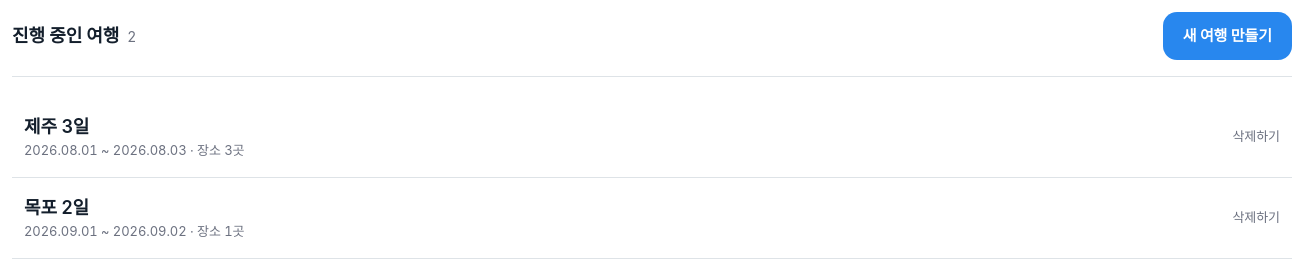
Test case: TripsPanel — 여행 지우기 (FR-017 soft delete) › 되돌리기를 누르면 목록으로 돌아온다 (T-06 — 되돌리기 항상 가능)
Click the button with aria-label "제주 3일 삭제하기" at (1256, 137), box [1220,117,1292,157]
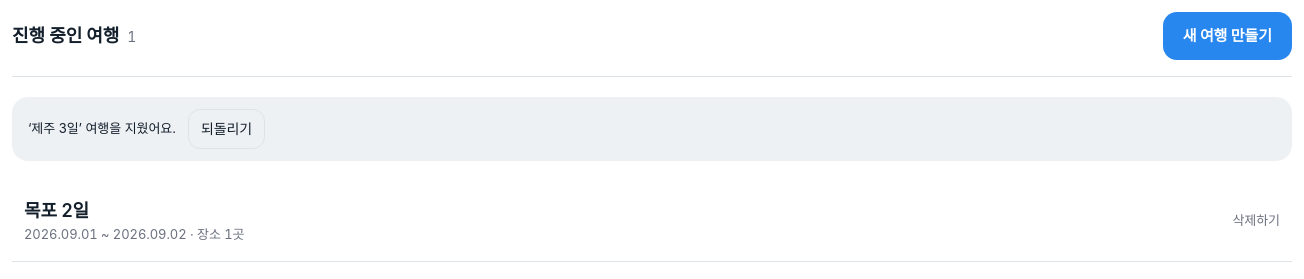
Click the button "되돌리기" at (226, 129), box [188,109,265,149]
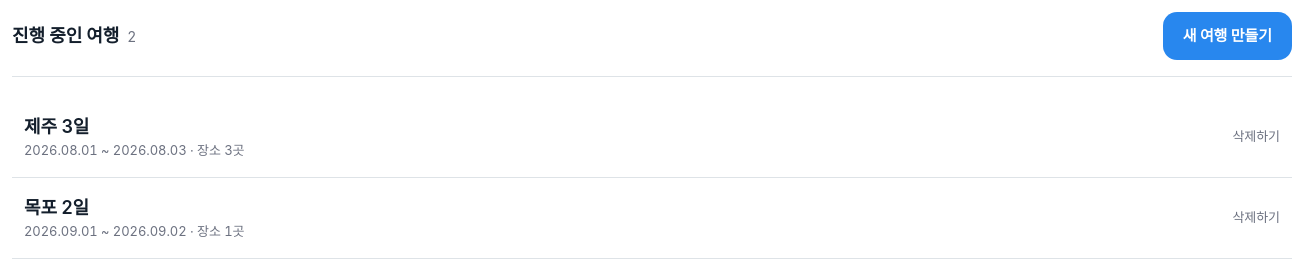
Result: the link "제주 3일 2026.08.01 ~ 2026.08.03 · 장소 3곳" is shown at [24,116,244,158]
Result: the message "‘제주 3일’ 여행을 지웠어요. 되돌리기" is gone
